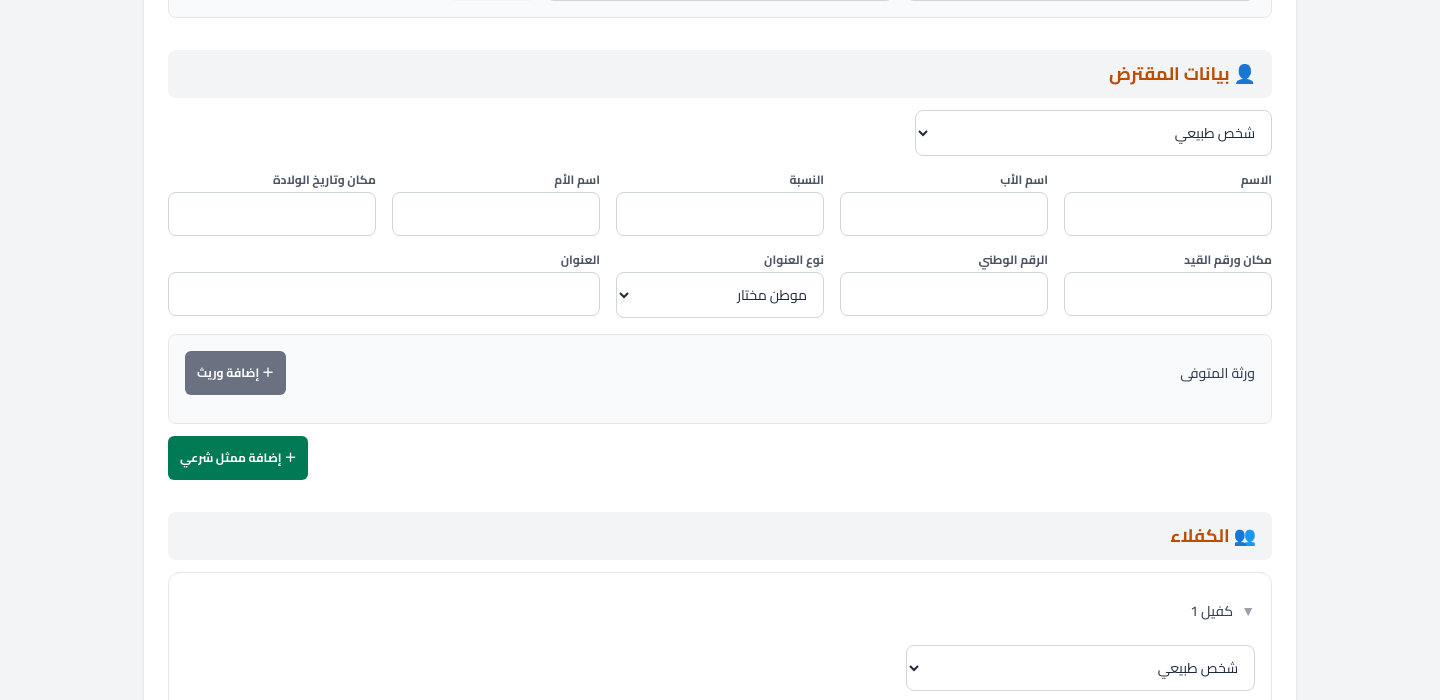
Test case: DocumentForm · الورثة والأصول › يُبقي حقل عنوان المقترض ظاهرًا مع صف وريث فارغ ويخفيه عند تسميته
The width and height of the screenshot is (1440, 700).
(page scrolled)
Expected: the field with id "borrowerAddress" is shown, 168,272 -> 600,316
Click the button "＋ إضافة وريث": (235, 373) 185,351 -> 286,395
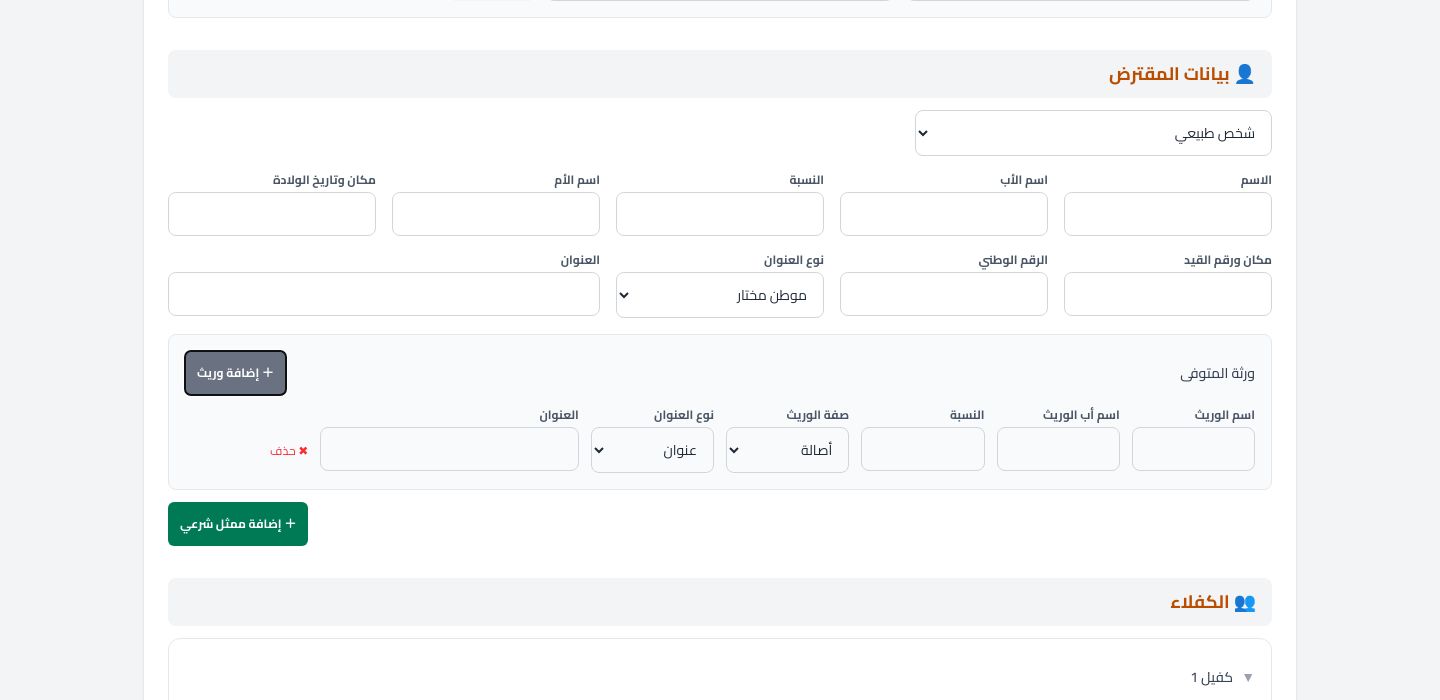
Expected: the field with id "borrowerAddress" is shown, 168,272 -> 600,316
In the field labelled "اسم الوريث": (1193, 449) 1132,427 -> 1255,471, type "محمود"
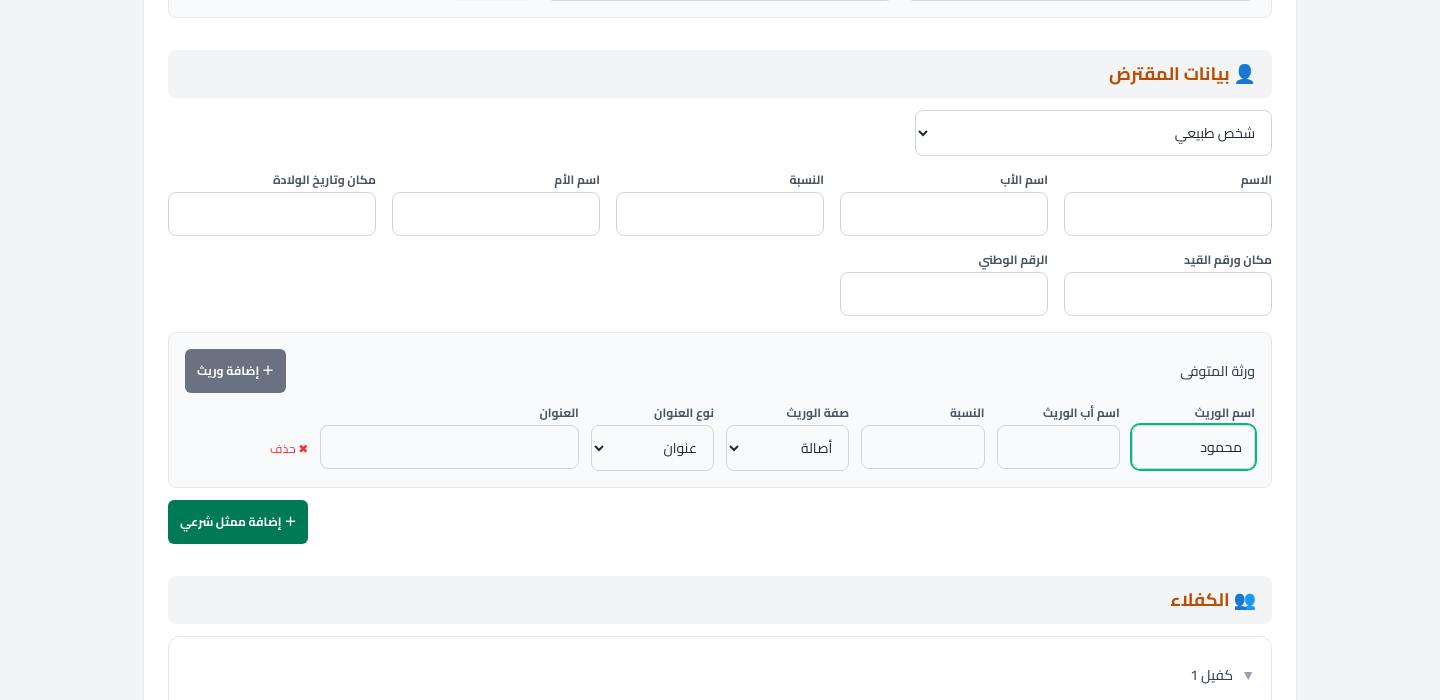
Result: the label with id "borrowerAddress" is gone
